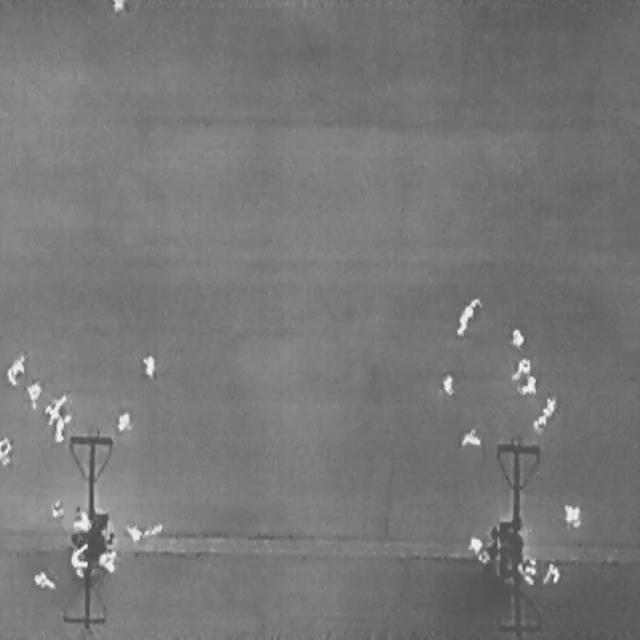Person: (450, 288, 481, 342), (505, 352, 533, 383), (67, 542, 88, 578), (515, 372, 539, 402), (43, 390, 64, 422), (516, 555, 536, 585), (71, 504, 89, 534), (31, 569, 57, 589), (561, 502, 581, 528), (541, 562, 560, 588), (97, 549, 116, 571), (26, 380, 40, 409), (125, 521, 142, 544), (140, 352, 155, 378), (460, 427, 481, 445), (0, 434, 12, 464), (509, 326, 524, 349), (53, 418, 66, 443), (116, 410, 131, 431), (541, 393, 555, 415), (466, 532, 481, 552), (441, 372, 452, 397), (532, 413, 546, 432), (11, 352, 23, 372), (50, 498, 62, 518), (5, 365, 16, 385), (477, 548, 489, 566), (110, 0, 124, 12)
